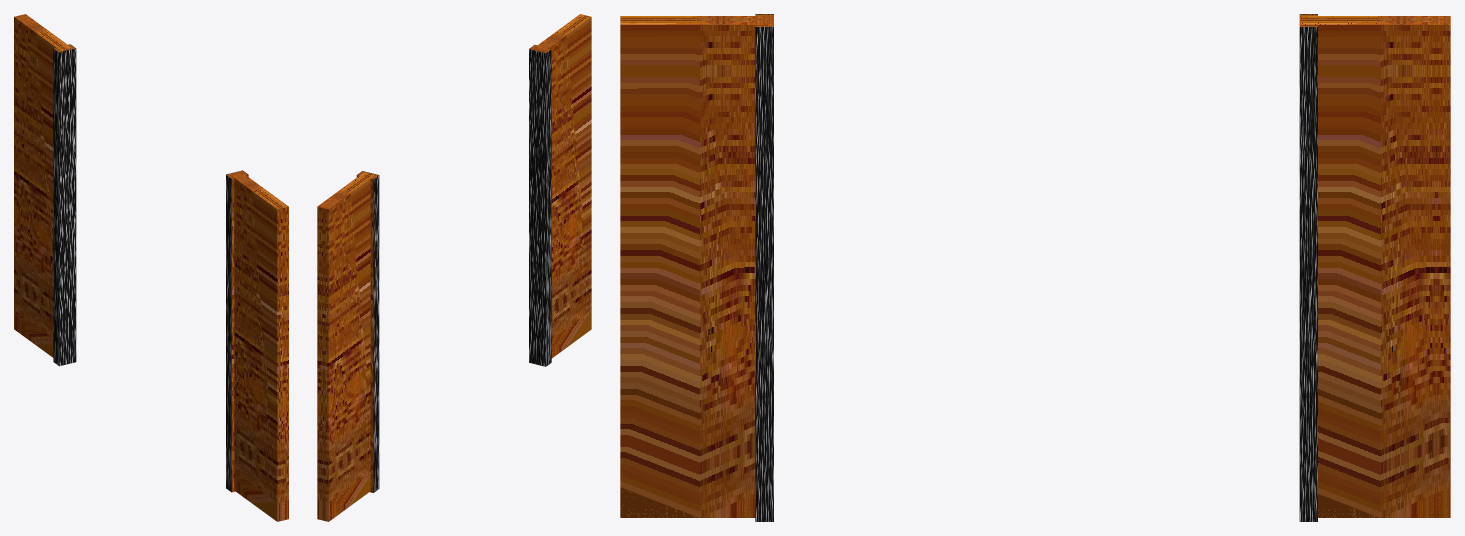
The model's file is dooorlift.glb.
3 views of the same model, side by side, from view 1: azimuth 30°, elevation 25°; view 2: azimuth 150°, elevation 25°; view 3: azimuth 270°, elevation 25° (orthographic). The views are drawn at different scales.
Visible parts, largest first — view 1: Куб.001, Куб; view 2: Куб, Куб.001; view 3: Куб, Куб.001.
Boxes of the visible parts, box(x1,y1,x2,y2) form: Куб.001: box(14, 14, 76, 366); Куб: box(226, 170, 288, 521); Куб: box(529, 14, 591, 366); Куб.001: box(317, 171, 379, 521); Куб: box(620, 14, 773, 521); Куб.001: box(1299, 14, 1450, 521).
Bounding box in the file's own units: 0.8763 × 15.52 × 23.59.
Materials: 4 (4 with a texture image).
